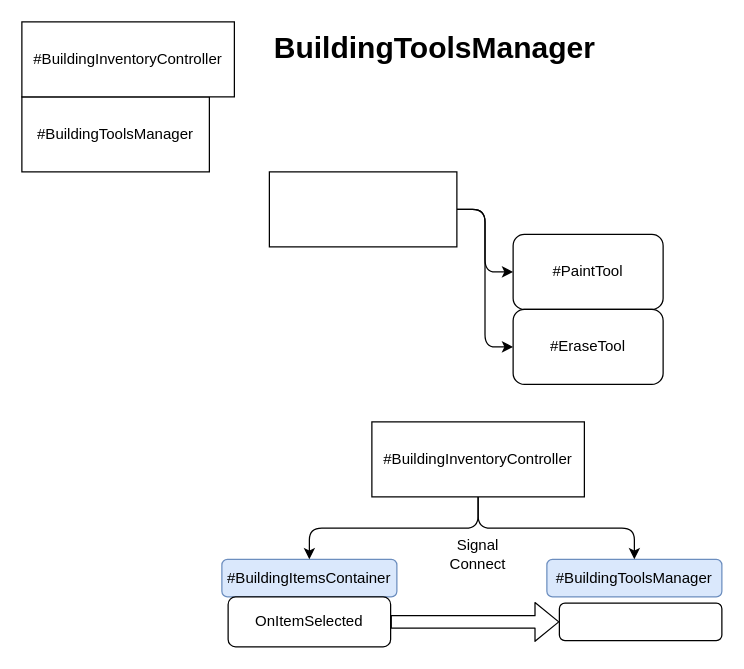
This 744x669 diagram has some shape labels left out. Each missing label, with the centre of its shape:
"LoadItem" belongs at (640,621).
"RegisterTool" belongs at (362,209).
